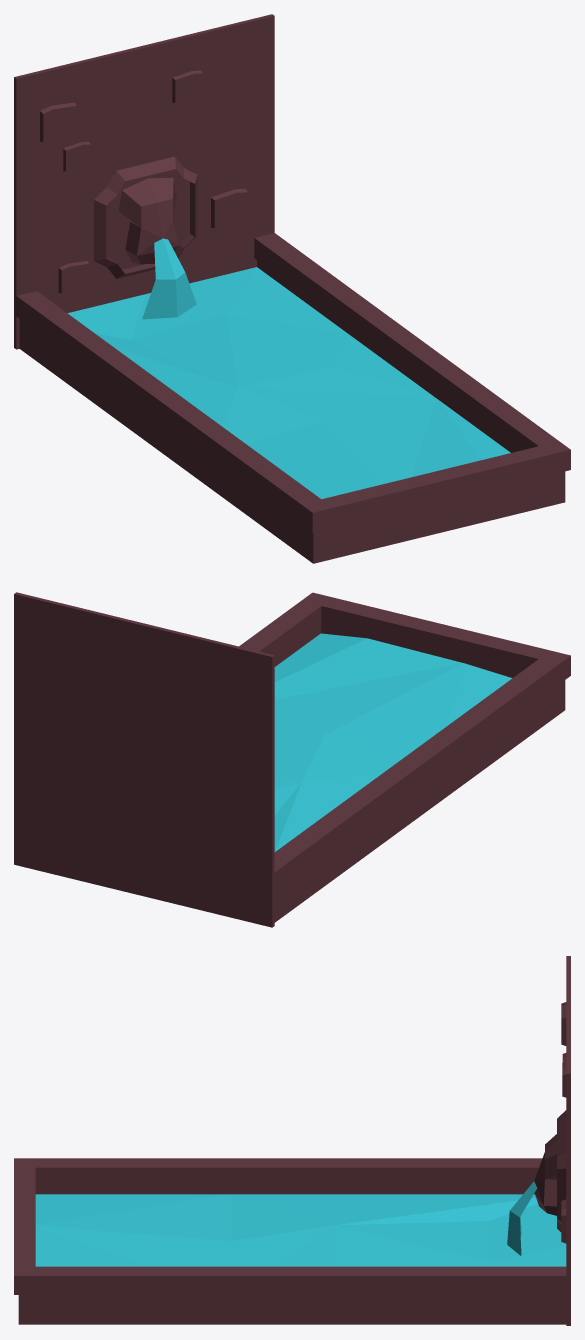
Rendered from SM_Water_Trough_Empire.fbx.
3 renders of one model, top to bottom at view 1: azimuth 30°, elevation 25°; view 2: azimuth 150°, elevation 25°; view 3: azimuth 270°, elevation 25°, orthographic. The views are drawn at different scales.
Visible parts, largest first — view 1: SM_Water_Trough_Empire; view 2: SM_Water_Trough_Empire; view 3: SM_Water_Trough_Empire.
Part boxes in pixels (bbox=[...]): SM_Water_Trough_Empire: bbox=[14, 14, 570, 563]; SM_Water_Trough_Empire: bbox=[14, 592, 570, 927]; SM_Water_Trough_Empire: bbox=[14, 956, 570, 1325].
Size of the model in its own units: 3 by 3 by 6.
